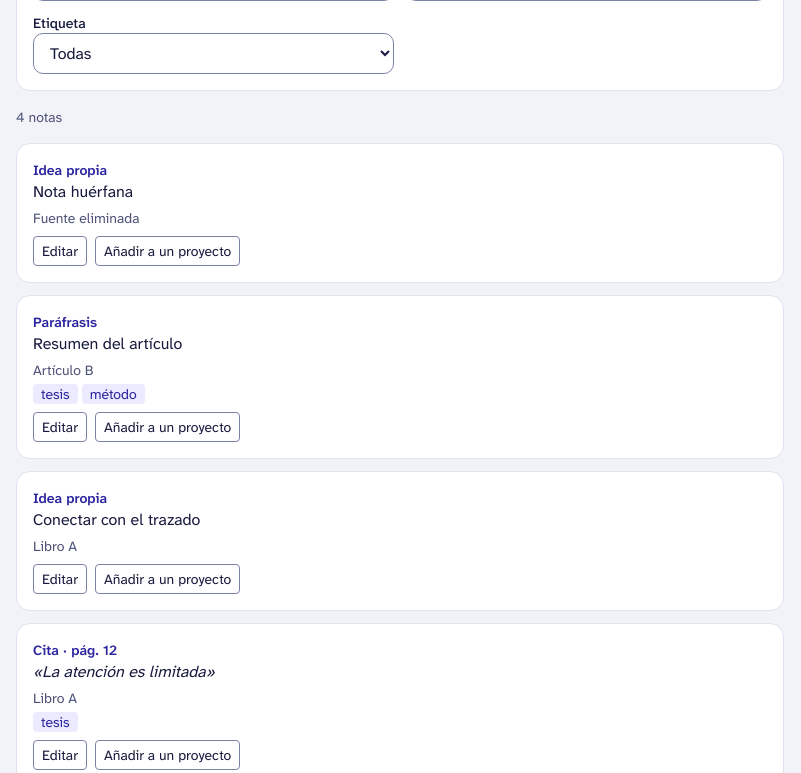
Test: NotebookPage › si no se puede guardar la nota editada, lo dice
(page scrolled)
Click the button "Editar" below "Conectar con el trazado" at x=60, y=579, box [33,564,87,594]
(page scrolled)
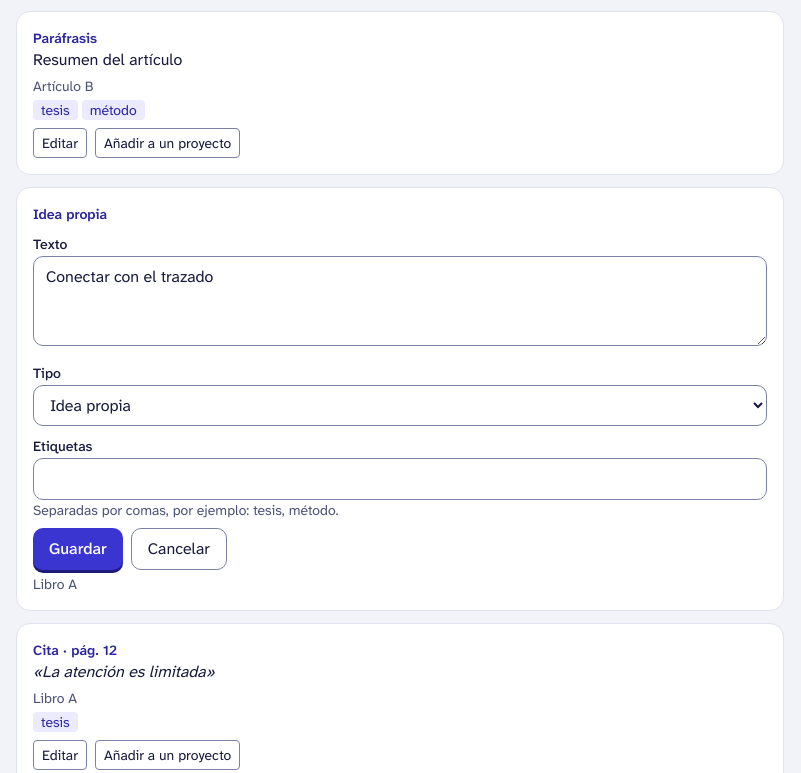
Click the button "Guardar" at x=78, y=549, box [33,528,123,570]
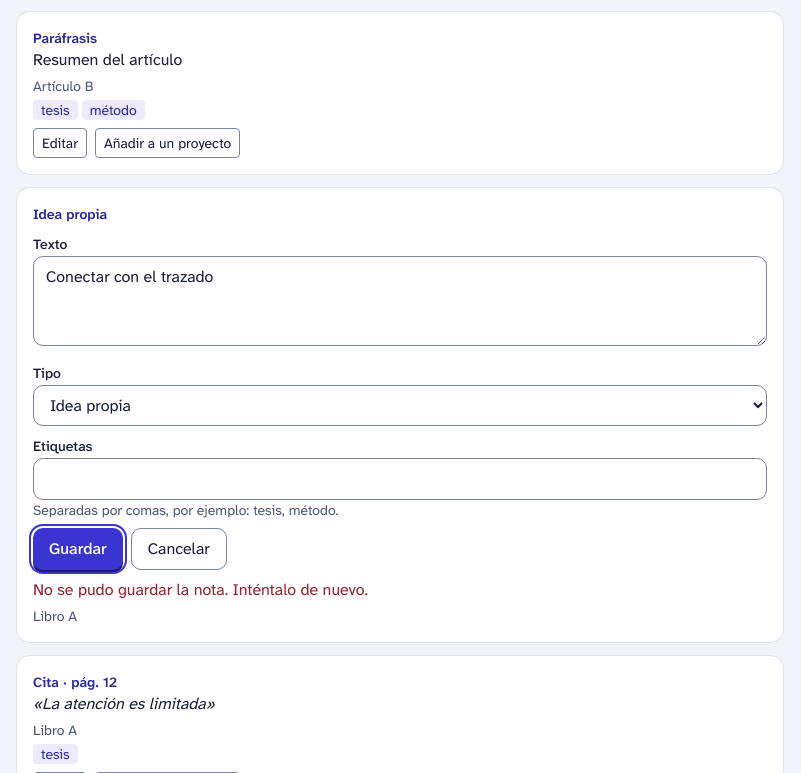
Now the message reads "No se pudo guardar la nota. Inténtalo de nuevo.", box [33,579,368,600]
